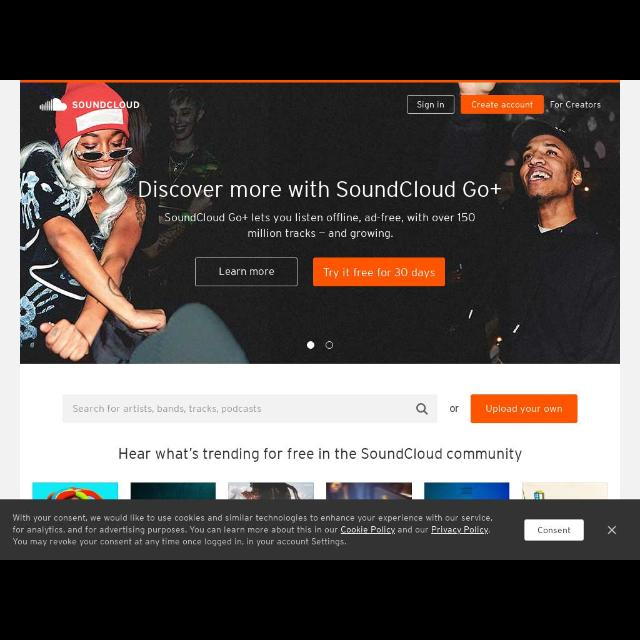backgroundimage: (19, 80, 618, 364)
icon: (416, 403, 428, 415), (608, 526, 616, 534)
image: (39, 96, 140, 112), (32, 482, 118, 500), (228, 482, 314, 500), (326, 482, 412, 500), (425, 482, 509, 500), (522, 482, 606, 500), (131, 483, 215, 499)
input: (62, 396, 438, 422)
pageindicator: (306, 340, 334, 350)
text: (12, 512, 494, 548), (164, 212, 476, 238), (138, 180, 502, 198), (118, 447, 522, 463), (72, 404, 262, 414), (550, 100, 602, 110), (449, 405, 459, 413)
textbutton: (312, 258, 446, 286), (471, 395, 577, 423), (195, 258, 297, 286), (461, 95, 543, 114), (524, 519, 584, 541), (406, 96, 454, 114)
